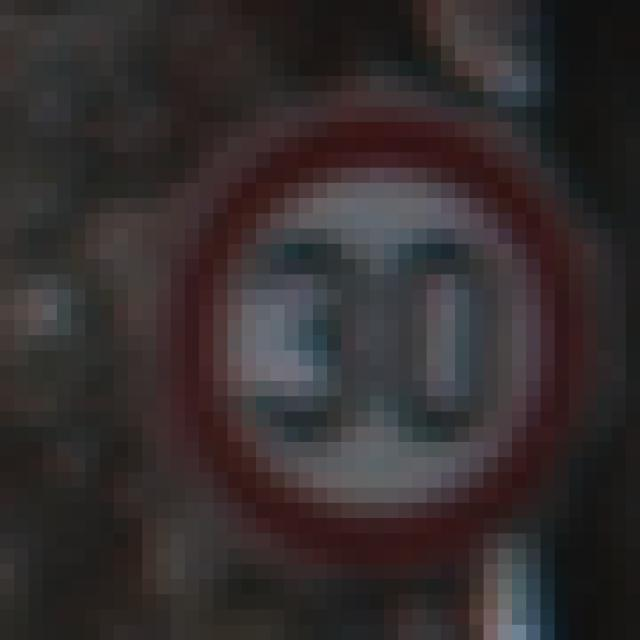Speed Limit -30-: (64, 69, 562, 556)
